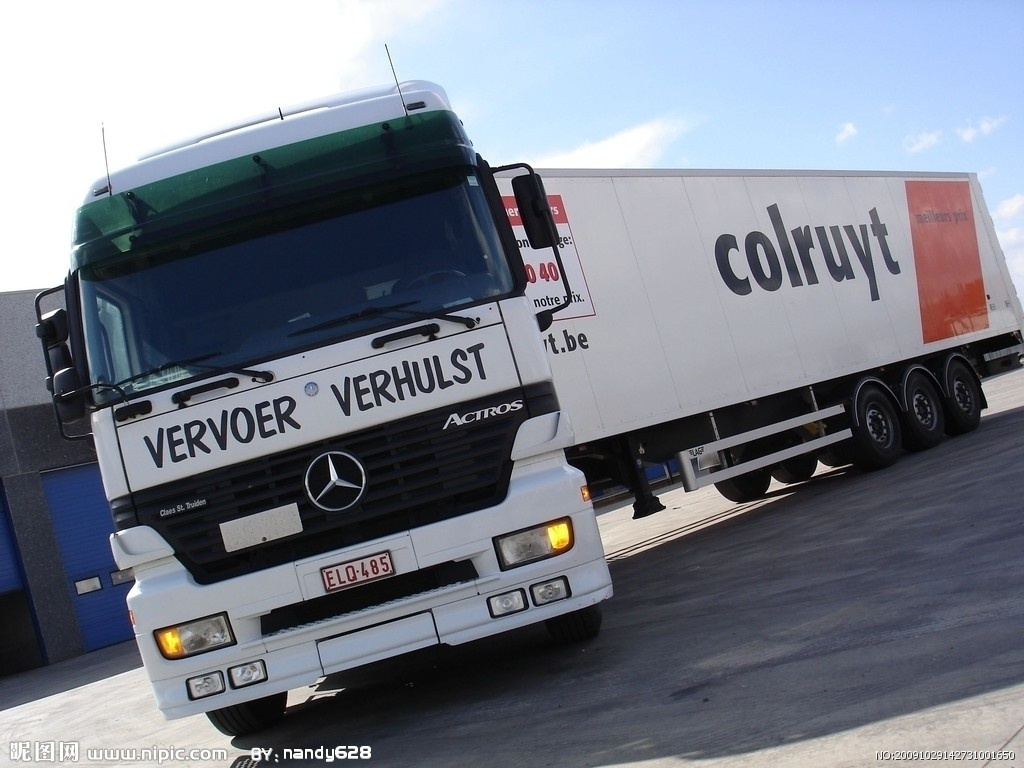heavy truck: (32, 88, 1012, 729)
